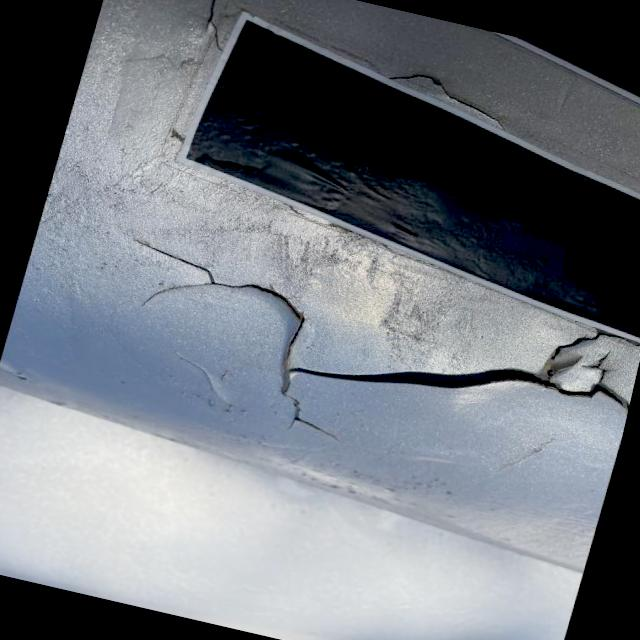crack: (284, 289, 638, 446), (125, 232, 292, 342), (256, 368, 348, 440)
